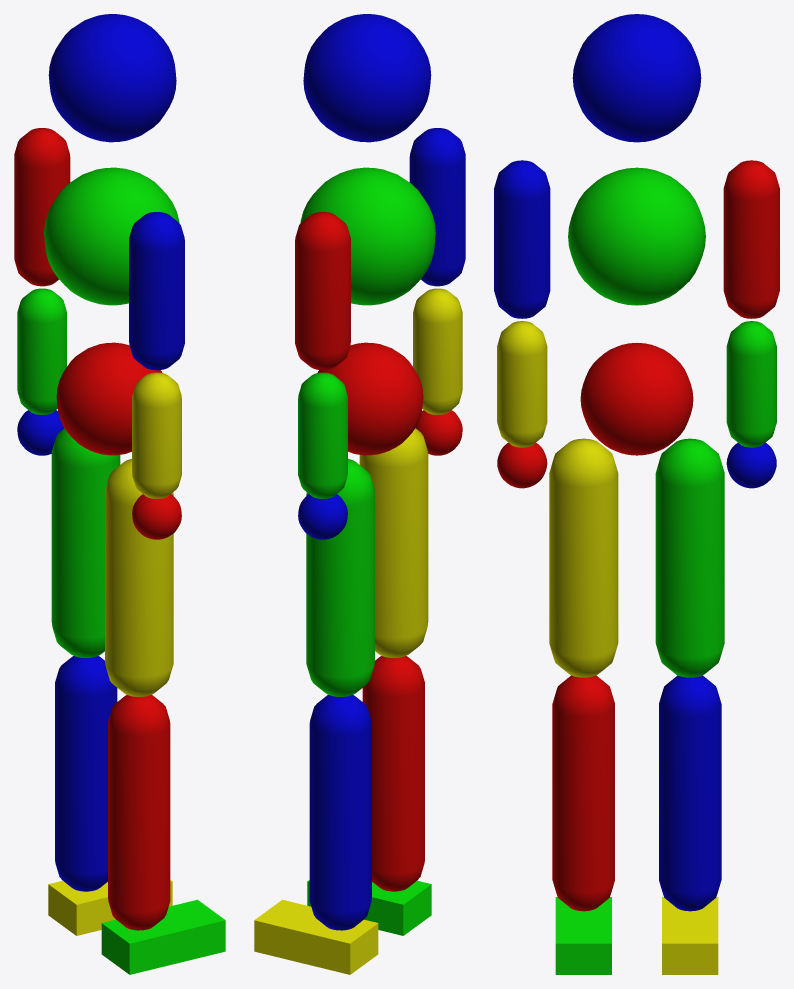
File: humanoid.fbx
3 views of the same model, side by side, from view 1: azimuth 30°, elevation 25°; view 2: azimuth 150°, elevation 25°; view 3: azimuth 270°, elevation 25° (orthographic).
Visible parts, largest first — view 1: geo:right_knee, geo:neck, geo:right_hip, geo:left_knee, geo:left_hip, geo:chest, geo:right_shoulder, geo:root, geo:left_shoulder, geo:right_ankle, geo:right_elbow, geo:left_elbow (+3 smaller); view 2: geo:left_knee, geo:neck, geo:left_hip, geo:right_knee, geo:right_hip, geo:chest, geo:left_shoulder, geo:root, geo:right_shoulder, geo:left_ankle, geo:left_elbow, geo:right_elbow (+3 smaller); view 3: geo:right_hip, geo:left_hip, geo:chest, geo:right_knee, geo:left_knee, geo:neck, geo:root, geo:right_shoulder, geo:left_shoulder, geo:right_elbow, geo:left_elbow, geo:right_ankle (+3 smaller).
Part boxes in pixels (x1,y1,x2,y2): geo:right_knee: (108,695,170,930); geo:neck: (48,14,176,142); geo:right_hip: (105,459,173,696); geo:left_knee: (55,656,117,891); geo:left_hip: (51,428,120,657); geo:chest: (44,167,179,305); geo:right_shoulder: (129,212,184,370); geo:root: (56,342,162,455); geo:left_shoulder: (14,128,70,286); geo:right_ankle: (101,899,225,974); geo:right_elbow: (132,372,181,498); geo:left_elbow: (17,288,66,414); geo:left_knee: (309,695,371,930); geo:neck: (303,14,431,142); geo:left_hip: (306,459,374,696); geo:right_knee: (362,656,424,891); geo:right_hip: (359,428,428,657); geo:chest: (300,167,435,305); geo:left_shoulder: (295,212,350,370); geo:root: (317,342,423,455); geo:right_shoulder: (409,128,465,286); geo:left_ankle: (254,899,378,974); geo:left_elbow: (298,372,347,498); geo:right_elbow: (413,288,462,414); geo:right_hip: (549,438,618,677); geo:left_hip: (655,438,724,677); geo:chest: (568,167,705,305); geo:right_knee: (552,675,614,911); geo:left_knee: (659,675,721,911); geo:neck: (572,14,701,142); geo:root: (580,343,693,455); geo:right_shoulder: (494,160,550,318); geo:left_shoulder: (723,160,779,318); geo:right_elbow: (497,321,547,447); geo:left_elbow: (726,321,776,447); geo:right_ankle: (555,897,611,974).
Size of the model in its own units: 9.74 by 18.25 by 64.76.
